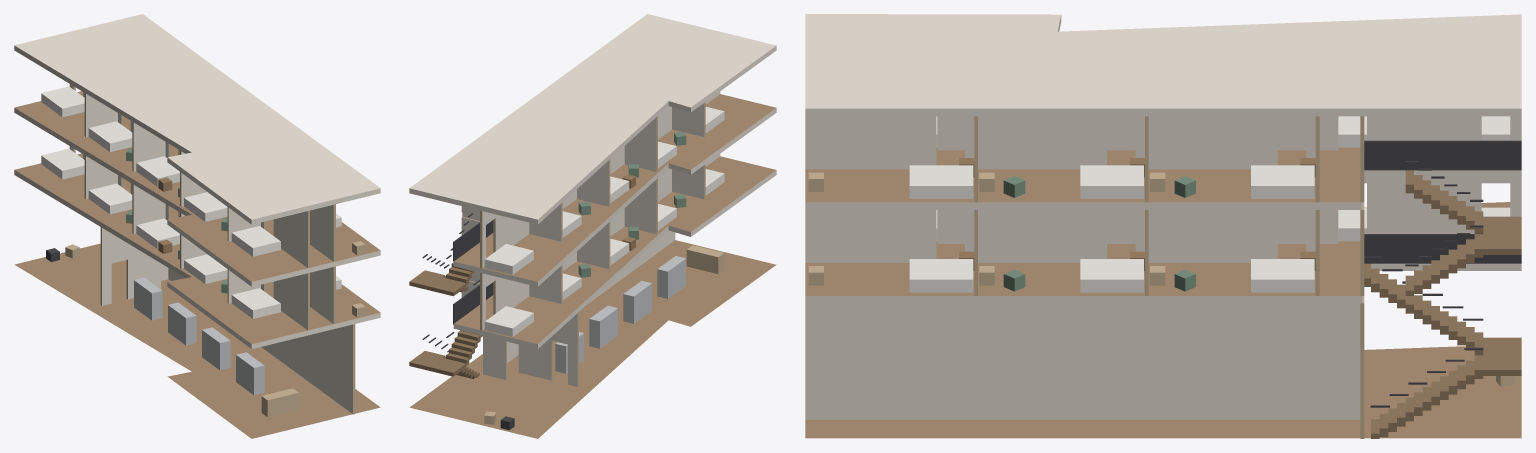
The model's file is interior.glb.
3 views of the same model, side by side, from view 1: azimuth 30°, elevation 25°; view 2: azimuth 150°, elevation 25°; view 3: azimuth 270°, elevation 25° (orthographic). The views are drawn at different scales.
Parts seen in each view (by area): view 1: slabs, partitions, coarse-s1, coarse-s2, coarse-s0; view 2: slabs, partitions, coarse-s0, stair, coarse-s2, coarse-s1; view 3: slabs, partitions, stair, coarse-s2, coarse-s1.
Part boxes in pixels (x1,y1,x2,y2): slabs: (14, 14, 380, 438); partitions: (69, 84, 355, 414); coarse-s1: (41, 148, 365, 318); coarse-s2: (41, 86, 365, 256); coarse-s0: (46, 244, 298, 417); slabs: (409, 14, 776, 438); partitions: (461, 91, 720, 386); coarse-s0: (484, 245, 724, 430); stair: (409, 213, 493, 379); coarse-s2: (484, 107, 724, 274); coarse-s1: (484, 169, 724, 336); slabs: (805, 14, 1521, 438); partitions: (805, 116, 1521, 438); stair: (1364, 140, 1521, 438); coarse-s2: (808, 116, 1510, 198); coarse-s1: (808, 207, 1510, 292).
Size of the model in its own units: 7.01 by 11.4 by 22.4.
